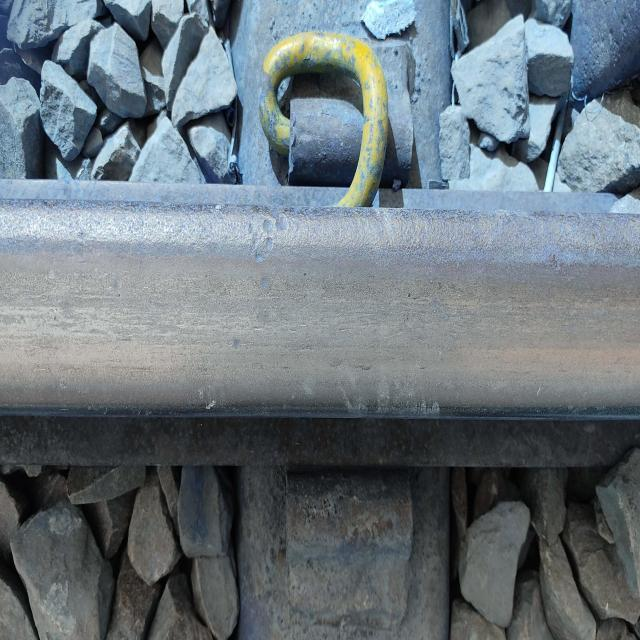Good Fasteners: (262, 22, 426, 213)
Missing Fastener: (243, 429, 432, 634)
